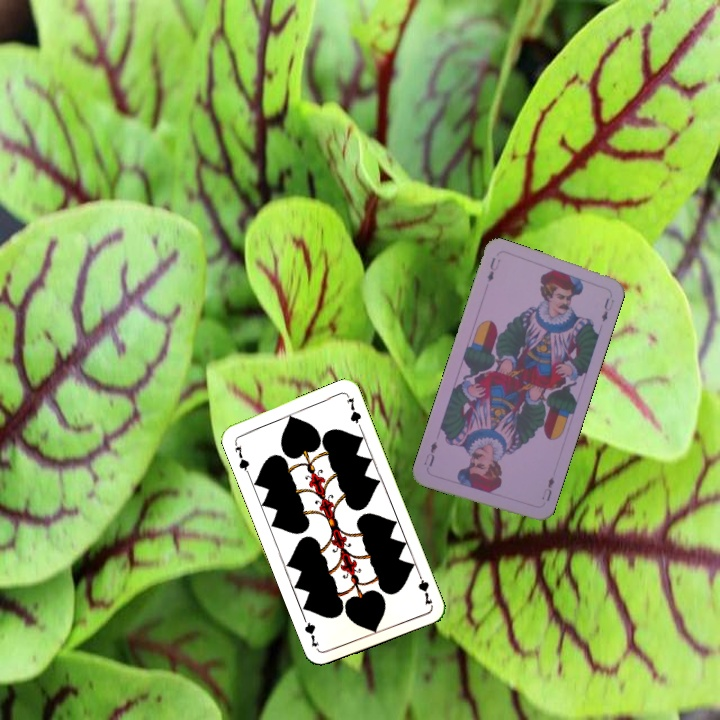EU: (483, 253, 503, 284), (538, 473, 557, 504)
G7: (230, 437, 252, 476), (414, 568, 435, 607)
